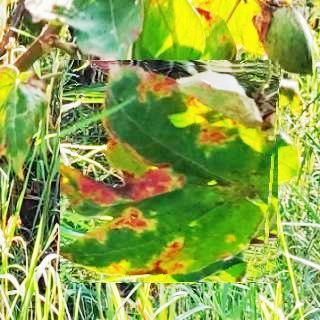blight: (60, 61, 281, 282)
